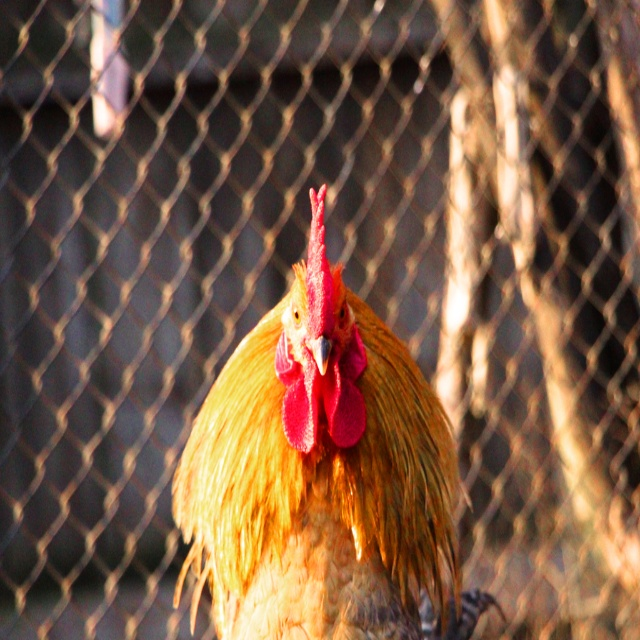Chicken: (182, 191, 460, 627)
